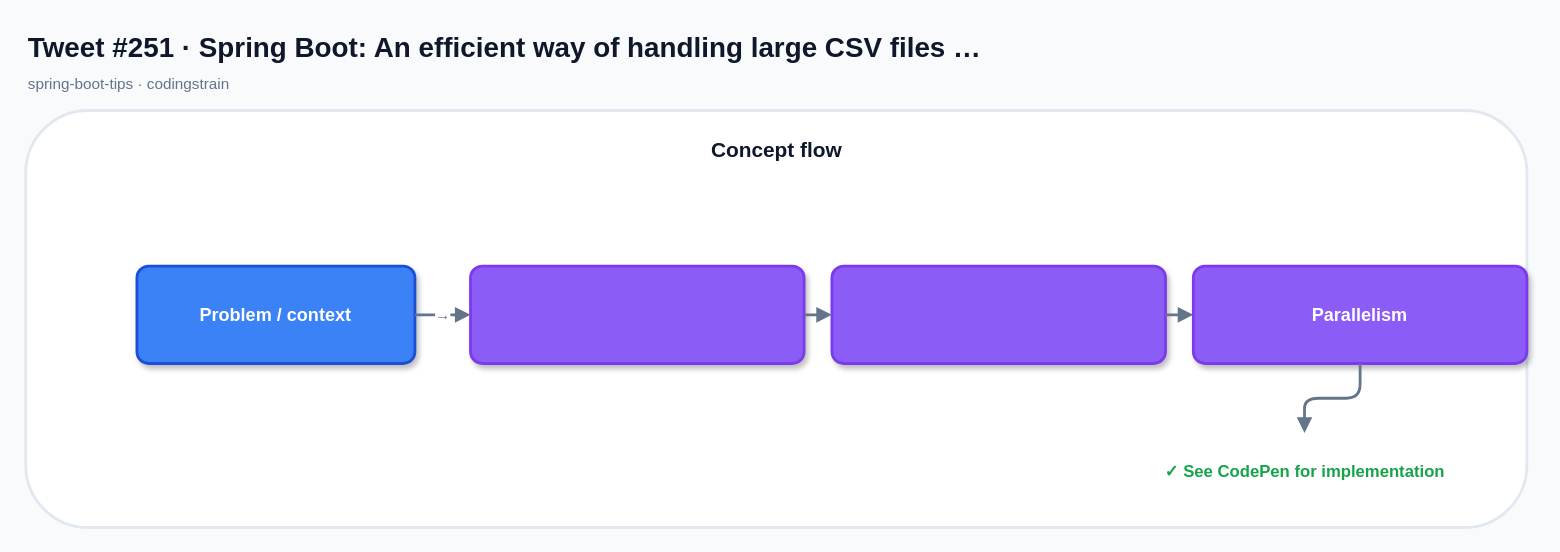
Image size: 1560x552. Some labels were removed from this diagram. The centre of each missing label's shape, as x and y in pixels:
Chunking: point (999, 316)
Spring Batch is configurable with options like:: point (638, 316)
